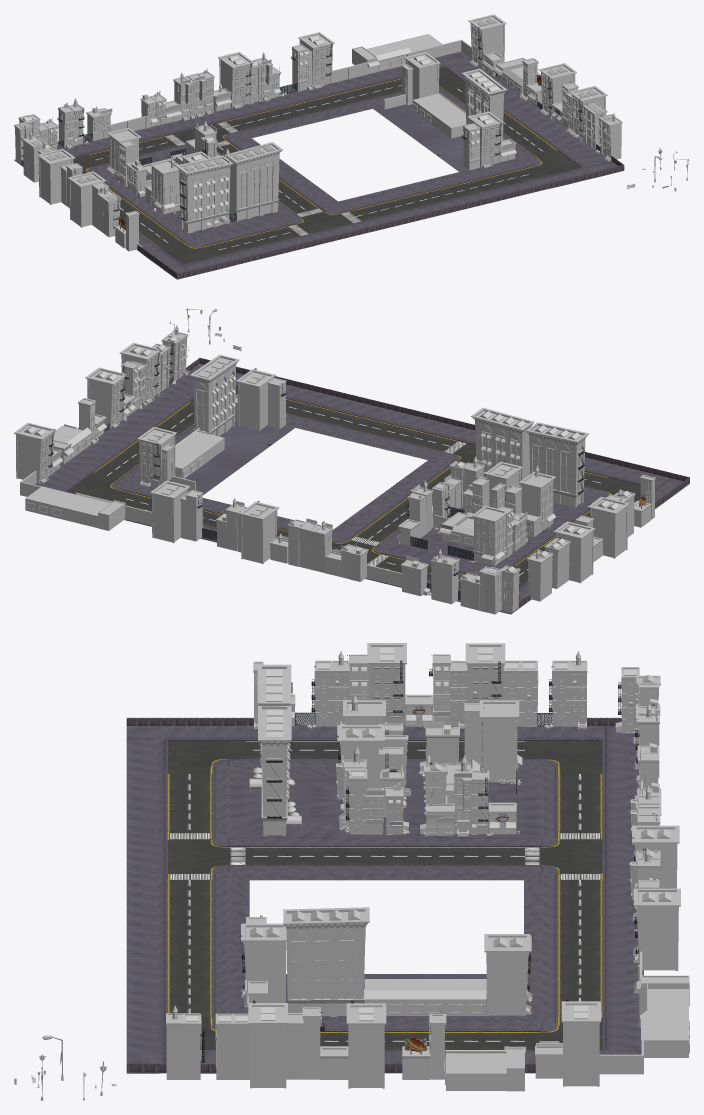
Rendered from City Buildings.fbx.
3 renders of one model, top to bottom at view 1: azimuth 30°, elevation 25°; view 2: azimuth 150°, elevation 25°; view 3: azimuth 270°, elevation 25°, orthographic. The views are drawn at different scales.
Visible parts, largest first — view 1: Road, Building4, Building6, Building5, Building3, Building2, Building1, Fence; view 2: Road, Building4, Building1, Building6, Building5, Building2, Building3, Fence; view 3: Road, Building6, Building1, Building5, Building2, Building4, Building3.
Boxes of the visible parts, left/top/right/bottom form: Road: left=14, top=51, right=624, bottom=279; Building4: left=14, top=32, right=471, bottom=164; Building6: left=468, top=14, right=623, bottom=165; Building5: left=384, top=52, right=516, bottom=170; Building3: left=176, top=142, right=282, bottom=233; Building2: left=21, top=131, right=176, bottom=277; Building1: left=107, top=121, right=229, bottom=214; Fence: left=177, top=165, right=624, bottom=278; Road: left=34, top=364, right=689, bottom=614; Building4: left=20, top=471, right=520, bottom=614; Building1: left=397, top=456, right=556, bottom=566; Building6: left=14, top=325, right=199, bottom=483; Building5: left=137, top=354, right=286, bottom=491; Building2: left=518, top=474, right=689, bottom=607; Building3: left=471, top=407, right=589, bottom=507; Fence: left=199, top=357, right=689, bottom=482; Road: left=126, top=725, right=643, bottom=1073; Building6: left=126, top=999, right=601, bottom=1091; Building1: left=336, top=694, right=522, bottom=836; Building5: left=239, top=907, right=533, bottom=1016; Building2: left=126, top=643, right=621, bottom=729; Building4: left=599, top=667, right=689, bottom=1074; Building3: left=249, top=664, right=301, bottom=836.
Size of the model in its own units: 218 by 26.7 by 158.
